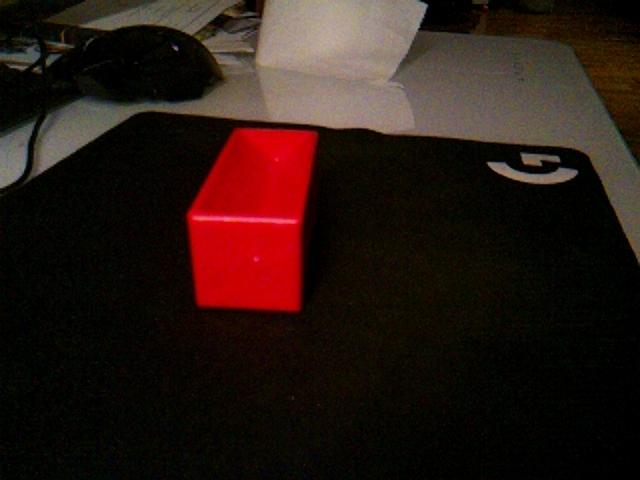red: (185, 126, 320, 314)
